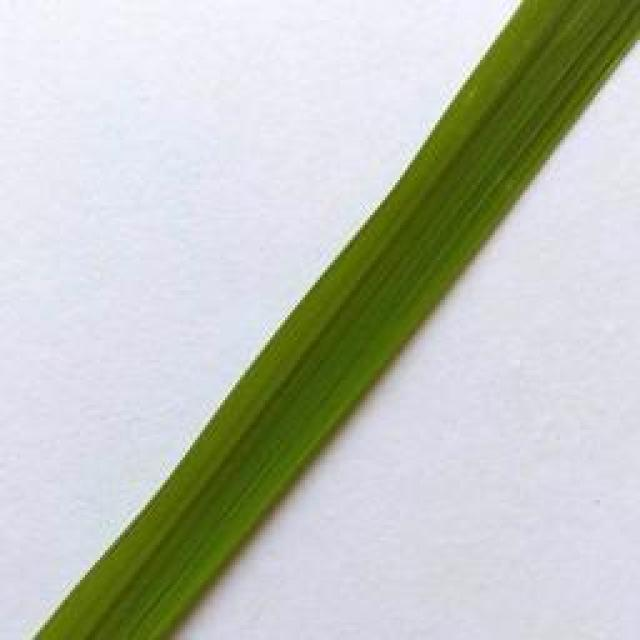Healthy: (32, 0, 640, 640)
